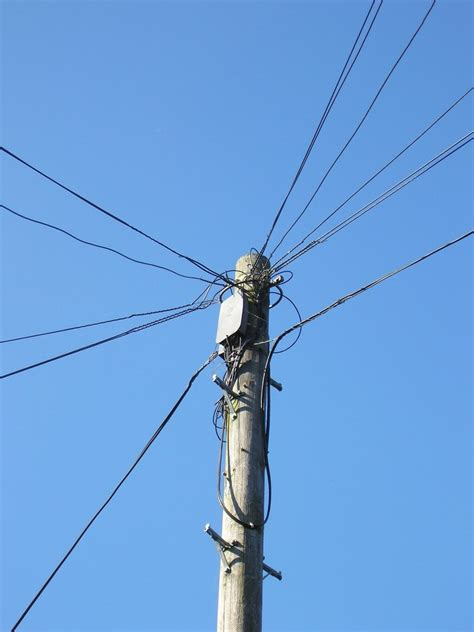pole: (175, 229, 334, 632)
